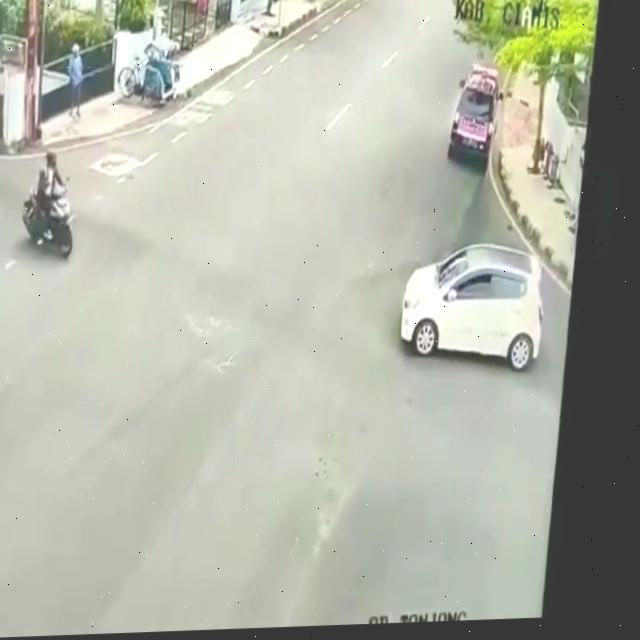normal: (410, 236, 547, 364), (20, 140, 124, 276), (420, 70, 527, 160)
